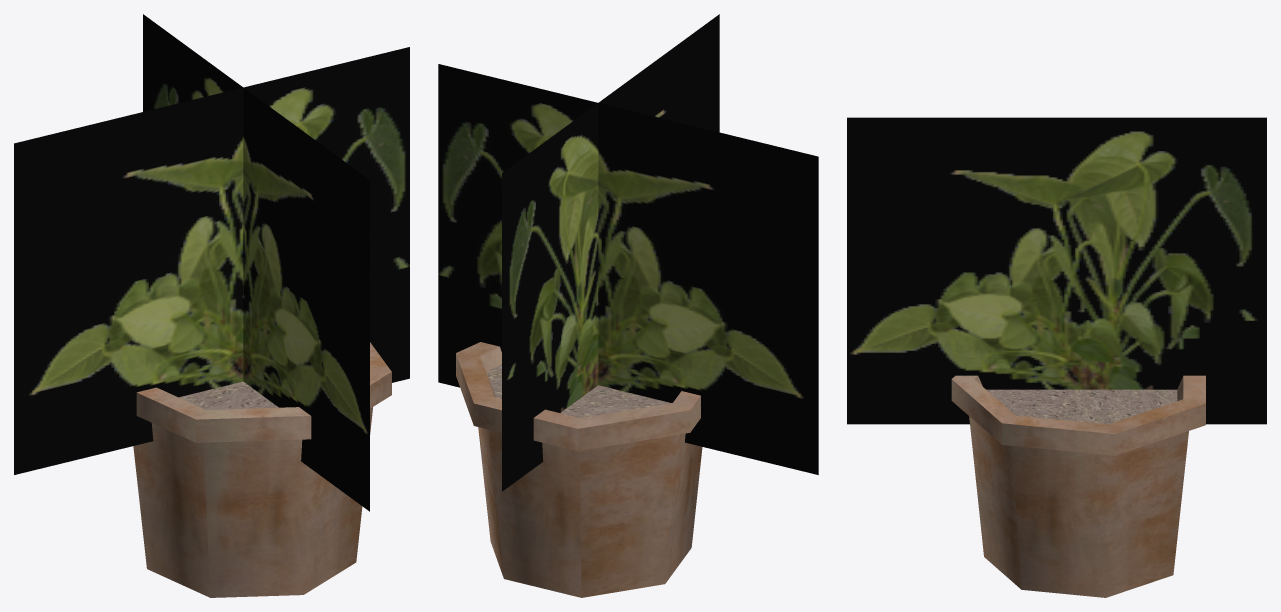
3 views of the same model, side by side, from view 1: azimuth 30°, elevation 25°; view 2: azimuth 150°, elevation 25°; view 3: azimuth 270°, elevation 25° (orthographic). The views are drawn at different scales.
Visible parts, largest first — view 1: Plants_02002_Plants002_0, Plants_02002_Plaster_02001_0; view 2: Plants_02002_Plants002_0, Plants_02002_Plaster_02001_0; view 3: Plants_02002_Plants002_0, Plants_02002_Plaster_02001_0.
Part boxes in pixels (x1,y1,x2,y2): Plants_02002_Plants002_0: [14, 14, 409, 511]; Plants_02002_Plaster_02001_0: [133, 342, 391, 597]; Plants_02002_Plants002_0: [438, 14, 818, 491]; Plants_02002_Plaster_02001_0: [456, 342, 702, 597]; Plants_02002_Plants002_0: [847, 117, 1266, 424]; Plants_02002_Plaster_02001_0: [951, 375, 1205, 597].
Bounding box in the file's own units: 0.8497 × 0.966 × 0.8432.
Materials: 2 (2 with a texture image).
